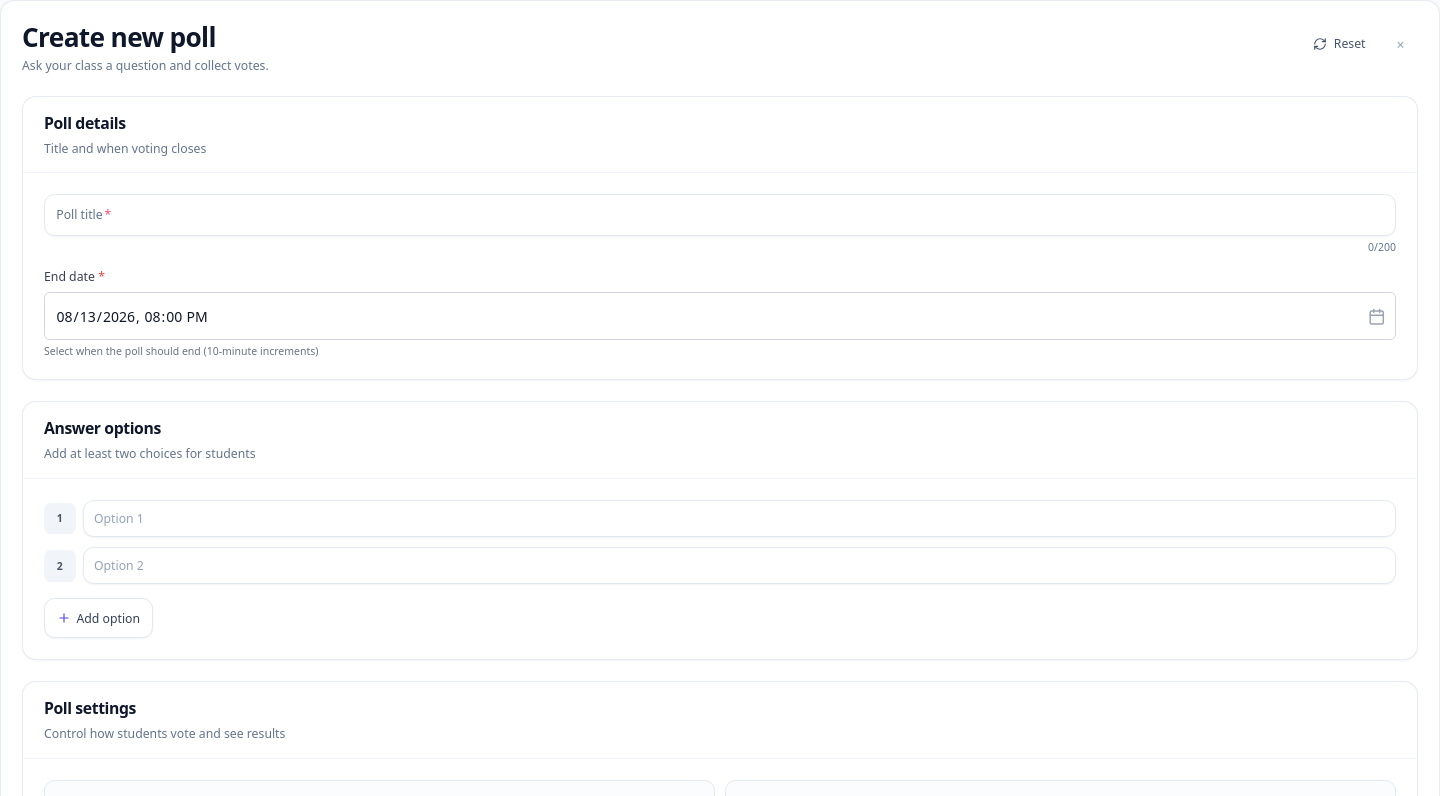
Test case: PollForm › should remove poll options
// Add an option first
Click the button "Add option" at (99, 618), box 44,598 -> 153,638
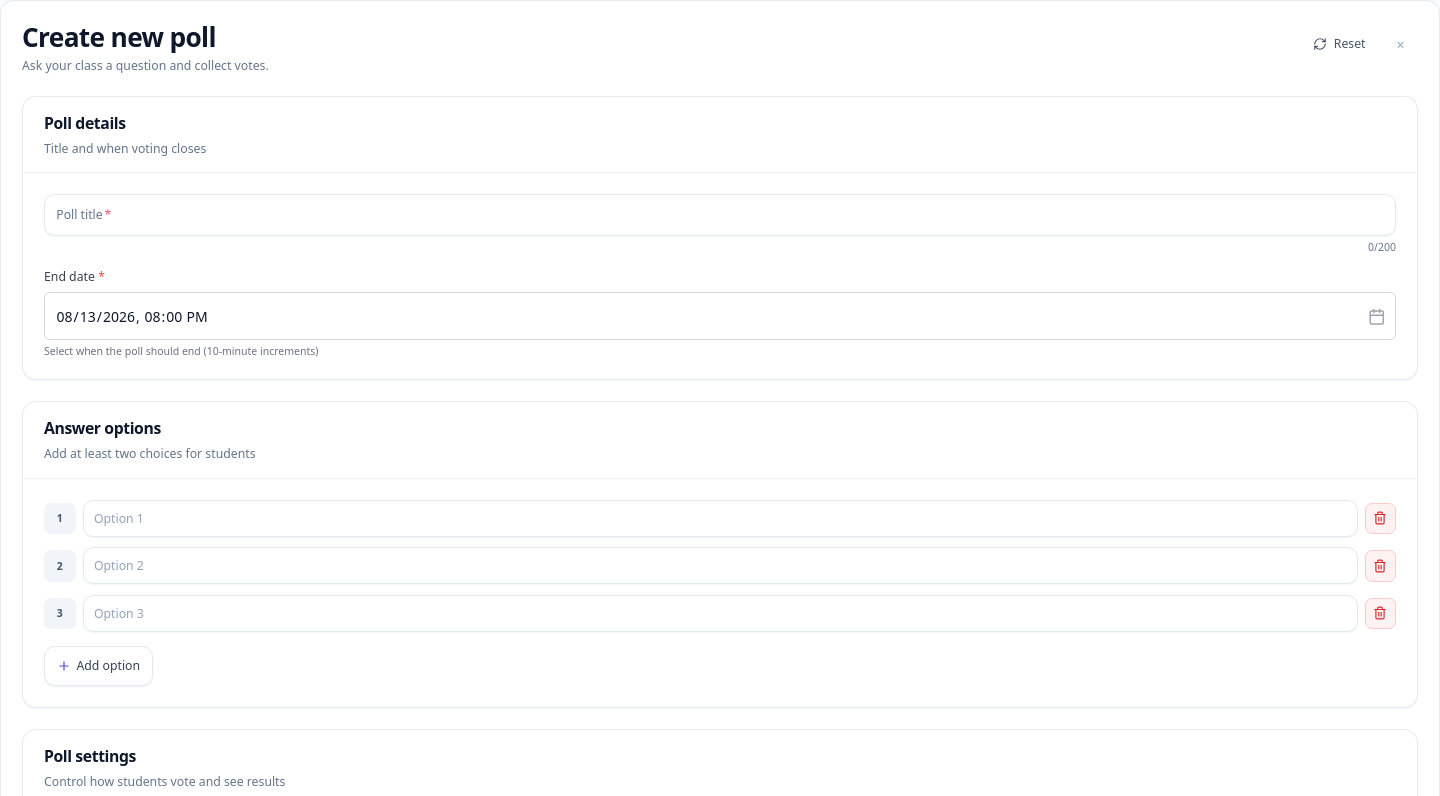
Expected: the 1st button titled "Remove option" is shown
Click the 1st button titled "Remove option" at (1380, 518), box 1364,503 -> 1396,534
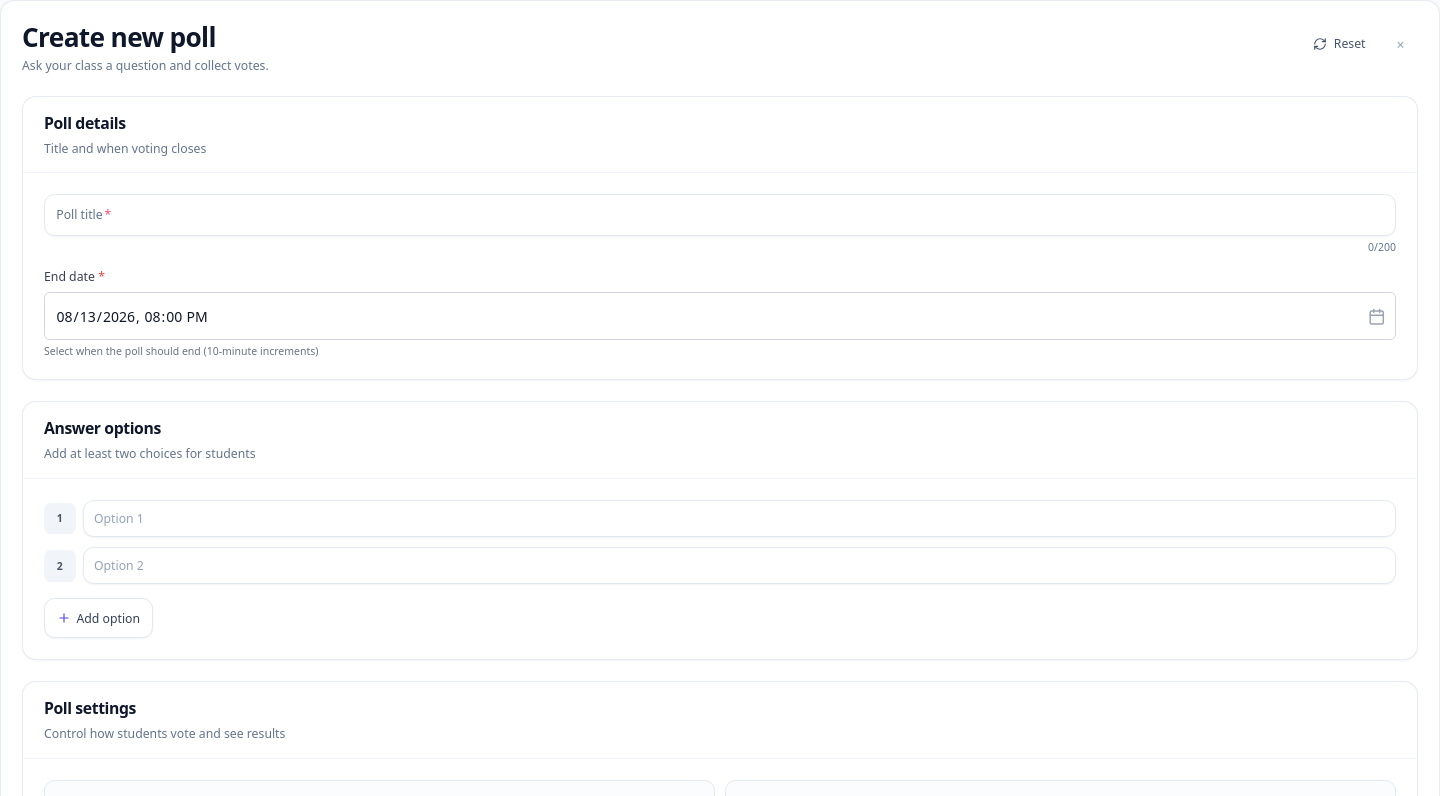
Expected: the number of fields with placeholder "Option 1" is 2, 82,500 -> 1396,537; 82,547 -> 1396,584
